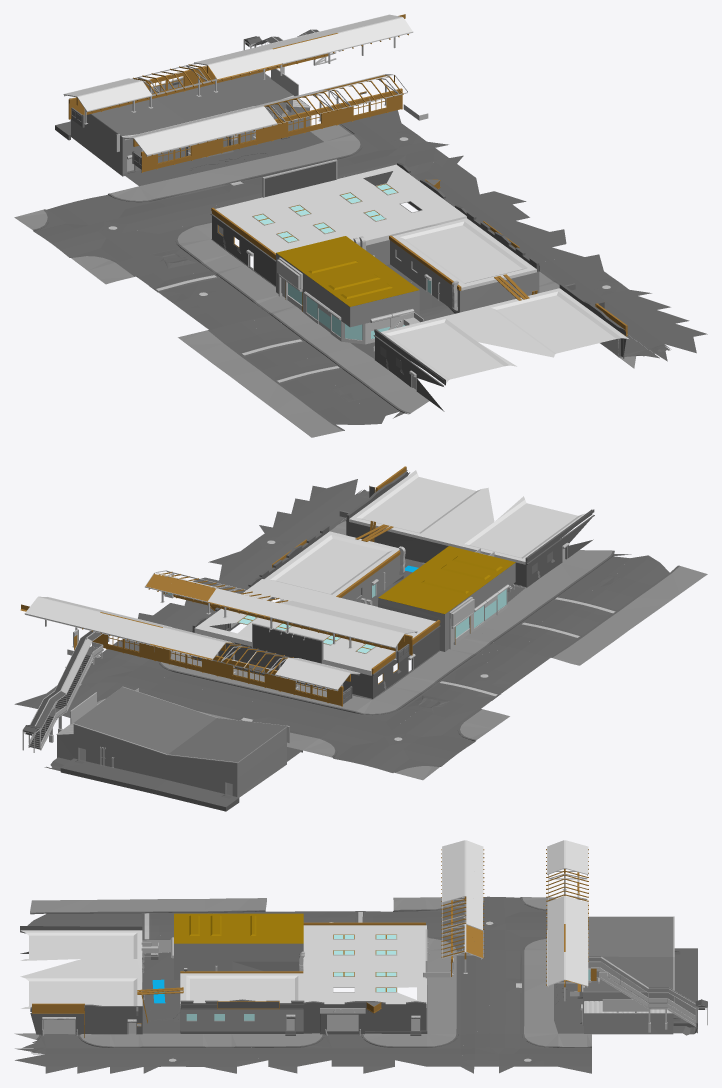
File: bronx_e_8.FBX
3 views of the same model, one above another, from view 1: azimuth 30°, elevation 25°; view 2: azimuth 150°, elevation 25°; view 3: azimuth 270°, elevation 25° (orthographic). The views are drawn at different scales.
Visible parts, largest first — view 1: unnamed, null; view 2: unnamed, null; view 3: unnamed, null.
Part boxes in pixels (x1,y1,x2,y2): unnamed: (14,14,707,437); null: (124,74,566,324); unnamed: (14,466,707,811); null: (90,545,506,730); unnamed: (14,840,707,1073); null: (219,840,497,1073).
Size of the model in its own units: 77.76 by 20.18 by 131.
